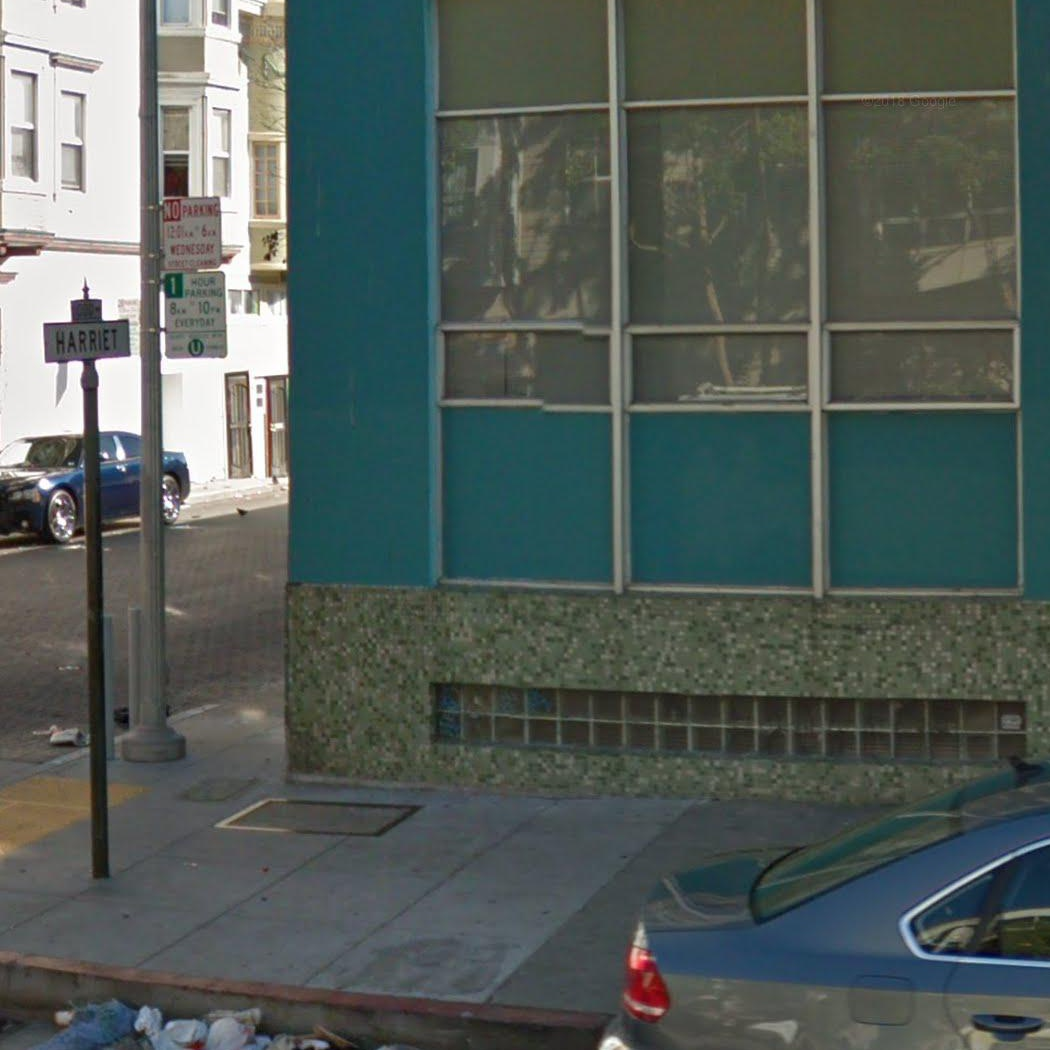1 Hour Parking: (163, 266, 229, 360)
No Parking: (159, 197, 221, 272)
